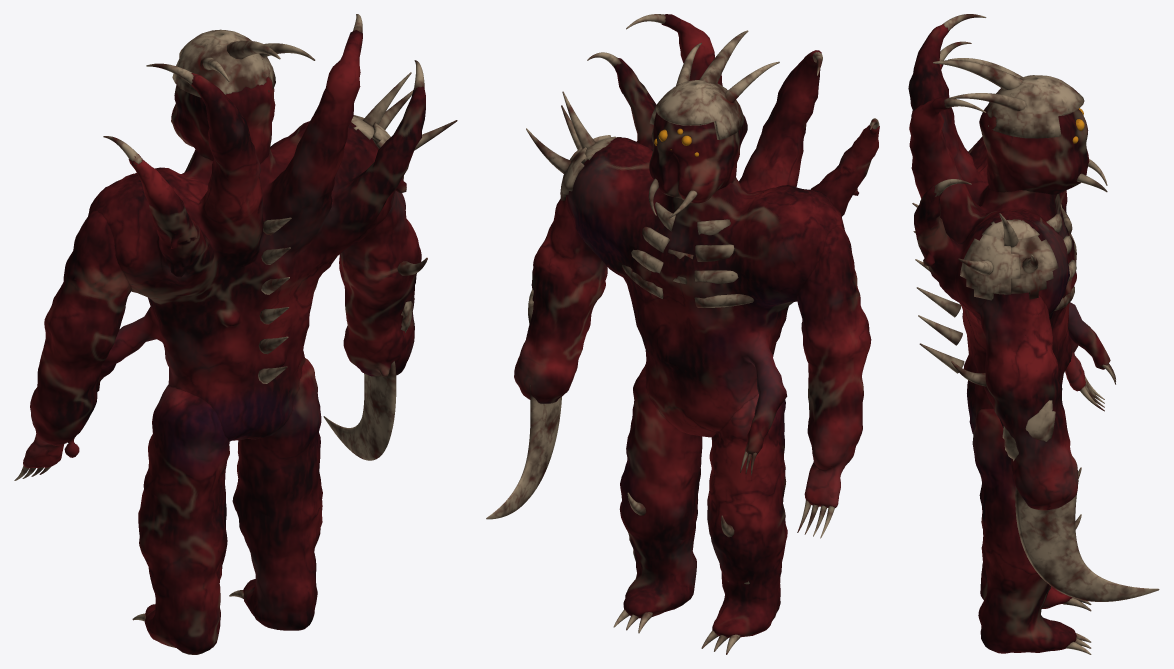
Rendered from Enfleshed_Elite.glb.
3 renders of one model, left to right at view 1: azimuth 30°, elevation 25°; view 2: azimuth 150°, elevation 25°; view 3: azimuth 270°, elevation 25°, orthographic. The views are drawn at different scales.
Parts seen in each view (by area): view 1: Torso, Left Leg, Right Leg, Left Arm, Right Arm, Head; view 2: Torso, Left Leg, Right Leg, Left Arm, Right Arm, Head; view 3: Torso, Right Arm, Head, Right Leg, Left Arm, Left Leg.
Boxes of the visible parts, x1=… form: Torso: x1=88, y1=14, x2=457, y2=441; Left Leg: x1=132, y1=384, x2=229, y2=654; Right Leg: x1=229, y1=358, x2=322, y2=630; Left Arm: x1=14, y1=210, x2=131, y2=480; Right Arm: x1=323, y1=191, x2=427, y2=460; Head: x1=171, y1=29, x2=315, y2=163; Torso: x1=526, y1=14, x2=879, y2=475; Left Leg: x1=701, y1=393, x2=787, y2=654; Right Leg: x1=613, y1=364, x2=702, y2=633; Left Arm: x1=797, y1=225, x2=871, y2=538; Right Arm: x1=486, y1=198, x2=607, y2=519; Head: x1=648, y1=30, x2=779, y2=218; Torso: x1=908, y1=14, x2=1115, y2=434; Right Arm: x1=951, y1=292, x2=1159, y2=601; Head: x1=933, y1=58, x2=1107, y2=194; Right Leg: x1=972, y1=408, x2=1091, y2=654; Left Arm: x1=1065, y1=337, x2=1104, y2=411; Left Leg: x1=980, y1=467, x2=1091, y2=611.
Size of the model in its own units: 5.43 by 8.55 by 3.4.
Materials: 1 (1 with a texture image).
